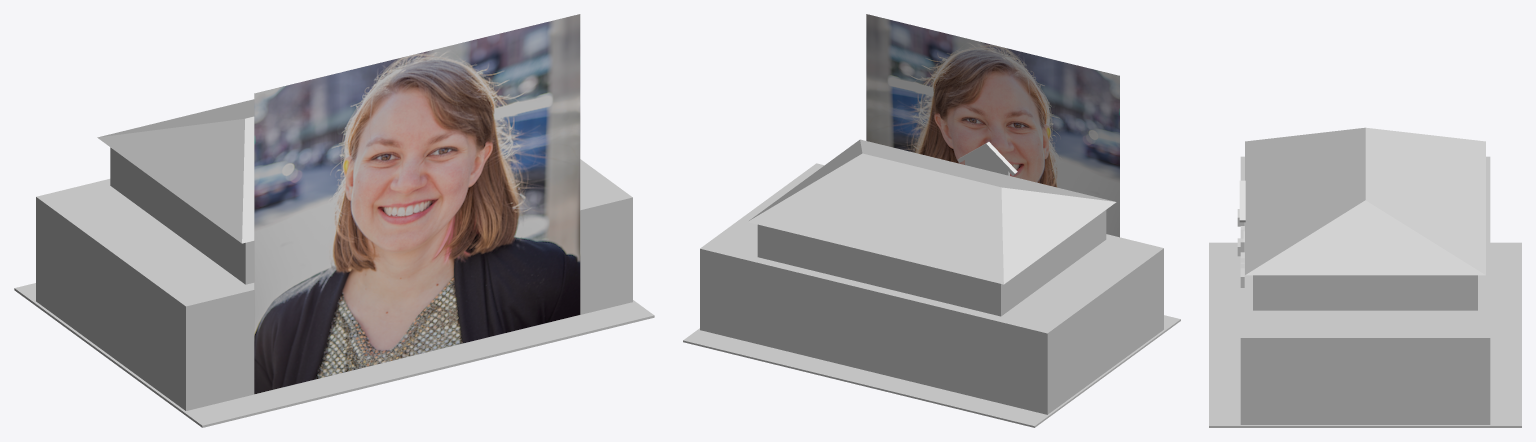
The model's file is testTFFix.dae.
The picture shows the model from 3 angles, left to right: view 1: azimuth 30°, elevation 25°; view 2: azimuth 150°, elevation 25°; view 3: azimuth 270°, elevation 25°; orthographic projection. The views are drawn at different scales.
Parts seen in each view (by area): view 1: Brep, solid_School_of_Engineering; view 2: solid_School_of_Engineering, Brep, solid_cartel_eps_2_; view 3: solid_School_of_Engineering, solid_cartel_eps_2_.
Part boxes in pixels (left/top/right/bottom): Brep: left=254, top=14, right=580, bottom=394; solid_School_of_Engineering: left=14, top=99, right=654, bottom=427; solid_School_of_Engineering: left=683, top=139, right=1180, bottom=427; Brep: left=866, top=14, right=1119, bottom=237; solid_cartel_eps_2_: left=957, top=142, right=1017, bottom=175; solid_School_of_Engineering: left=1209, top=127, right=1521, bottom=427; solid_cartel_eps_2_: left=1237, top=180, right=1245, bottom=287.
Bounding box in the file's own units: 1.06 × 0.765 × 0.6934.
4 materials, 2 textured.
